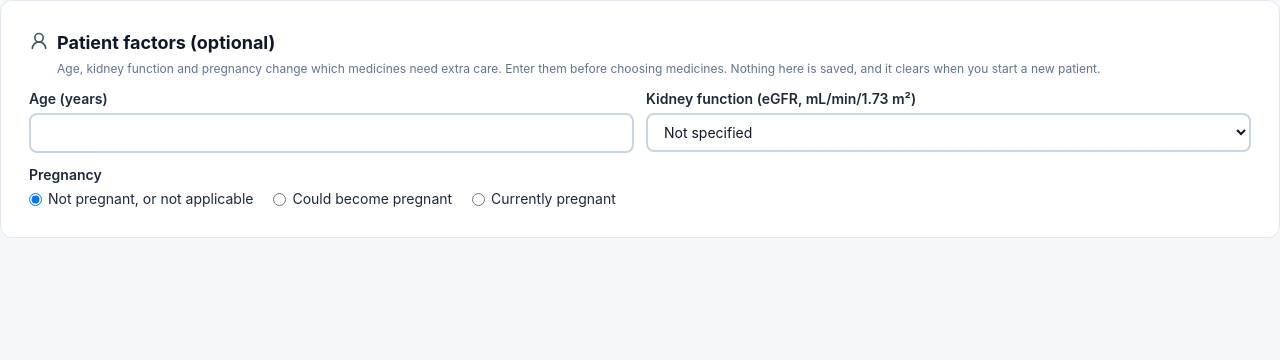
Scenario: patient factors › lists only the plan medicines in the panel but reports cautions for the candidates too
The width and height of the screenshot is (1280, 360).
Click the radio button labelled "Could become pregnant": [280, 199] box 274,192 -> 286,206
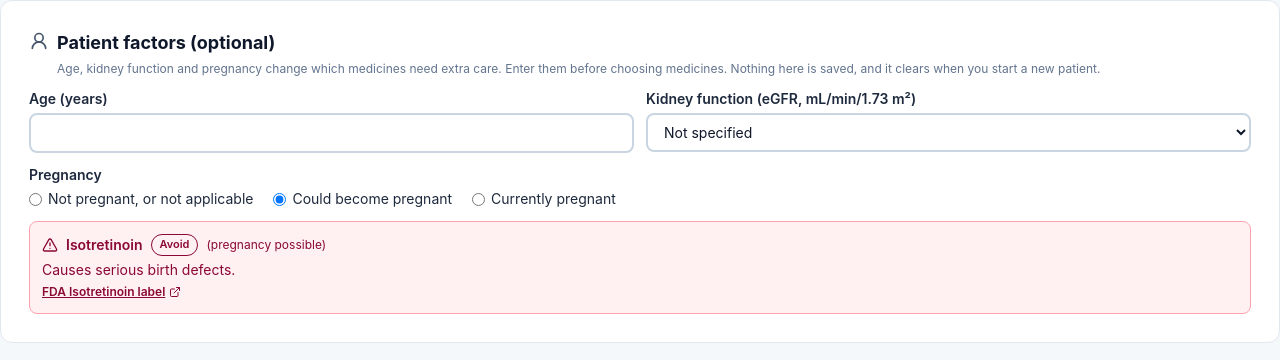
Expected: the text "Causes serious birth defects." is shown, 42,261 -> 235,278
